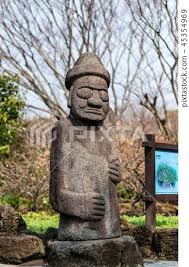Stone Statue: (46, 47, 134, 257)
